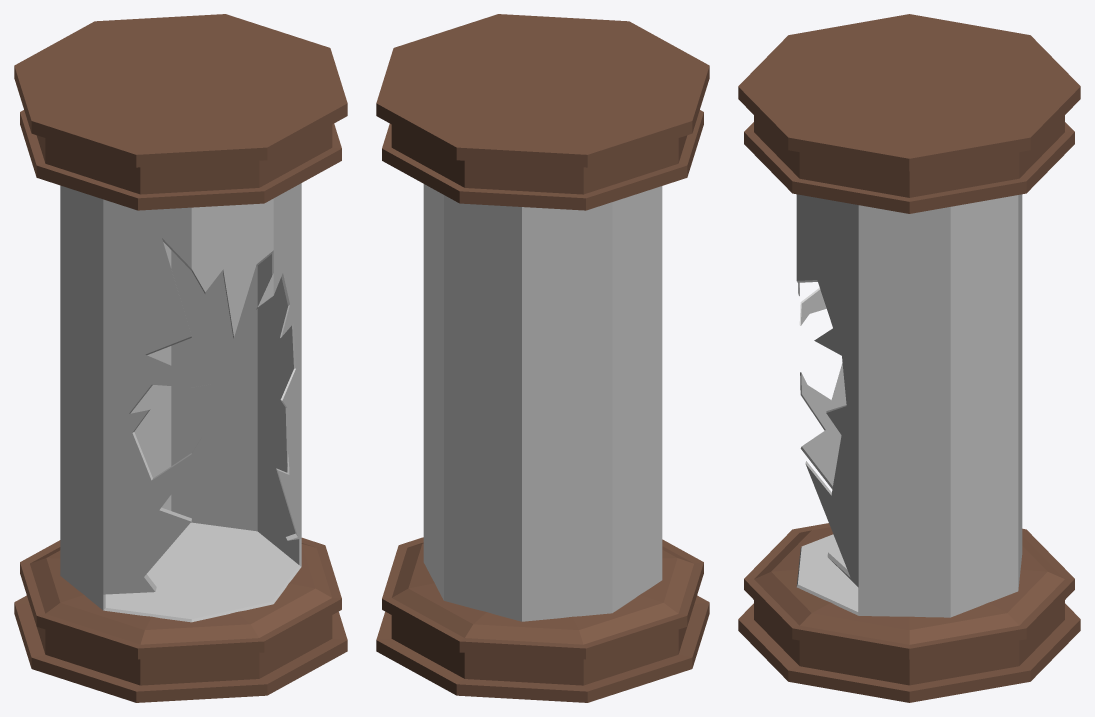
Rendered from incubatorcasse.fbx.
3 renders of one model, left to right at view 1: azimuth 30°, elevation 25°; view 2: azimuth 150°, elevation 25°; view 3: azimuth 270°, elevation 25°, orthographic.
Visible parts, largest first — view 1: Cylinder.002, Cylinder.001, Cylinder; view 2: Cylinder.002, Cylinder.001, Cylinder; view 3: Cylinder.002, Cylinder.001, Cylinder.
Boxes of the visible parts, <box> form: Cylinder.002: <box>60,183,301,622</box>; Cylinder.001: <box>14,14,347,210</box>; Cylinder: <box>14,537,347,702</box>; Cylinder.002: <box>423,184,662,621</box>; Cylinder.001: <box>376,14,709,210</box>; Cylinder: <box>376,537,709,702</box>; Cylinder.002: <box>796,194,1022,617</box>; Cylinder.001: <box>738,14,1080,213</box>; Cylinder: <box>738,523,1080,702</box>.
Size of the model in its own units: 246 by 431 by 246.
